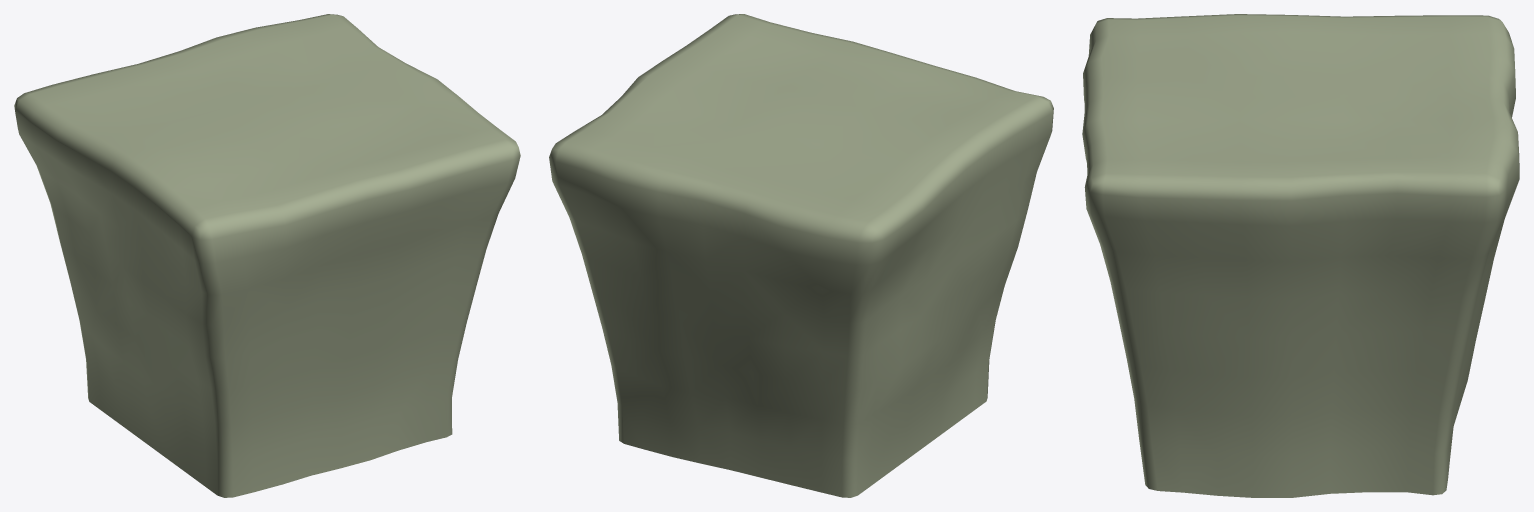
File: LP_GroundRock.fbx
3 renders of one model, left to right at view 1: azimuth 30°, elevation 25°; view 2: azimuth 150°, elevation 25°; view 3: azimuth 270°, elevation 25°, orthographic. The views are drawn at different scales.
Visible parts, largest first — view 1: LP_GroundRock; view 2: LP_GroundRock; view 3: LP_GroundRock.
Boxes of the visible parts, bbox=[...] form: LP_GroundRock: bbox=[14, 14, 520, 497]; LP_GroundRock: bbox=[549, 14, 1053, 497]; LP_GroundRock: bbox=[1082, 14, 1519, 497].
Bounding box in the file's own units: 1.05 × 0.9001 × 1.05.
